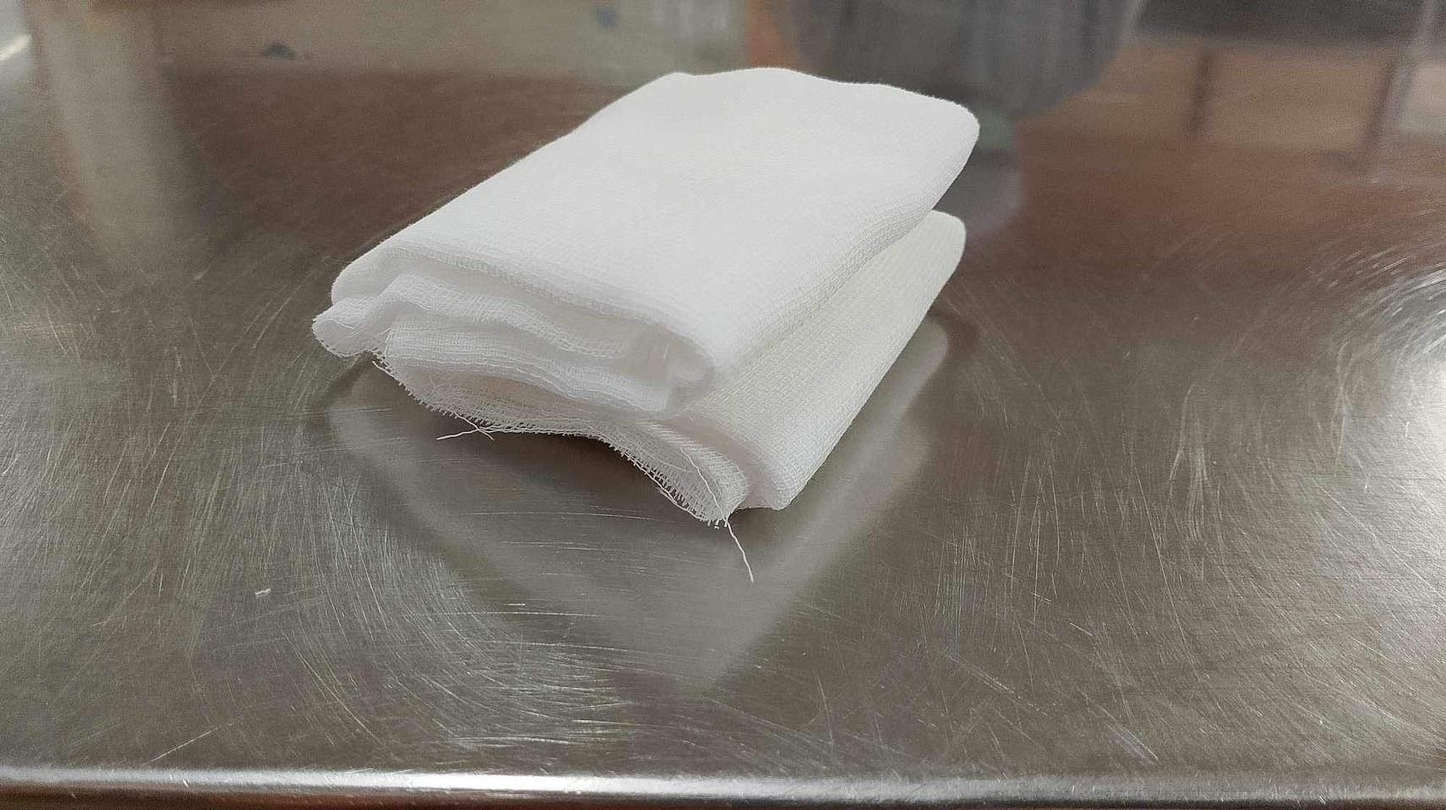General: (4, 6, 1439, 803)
Infectious: (310, 63, 981, 538)
